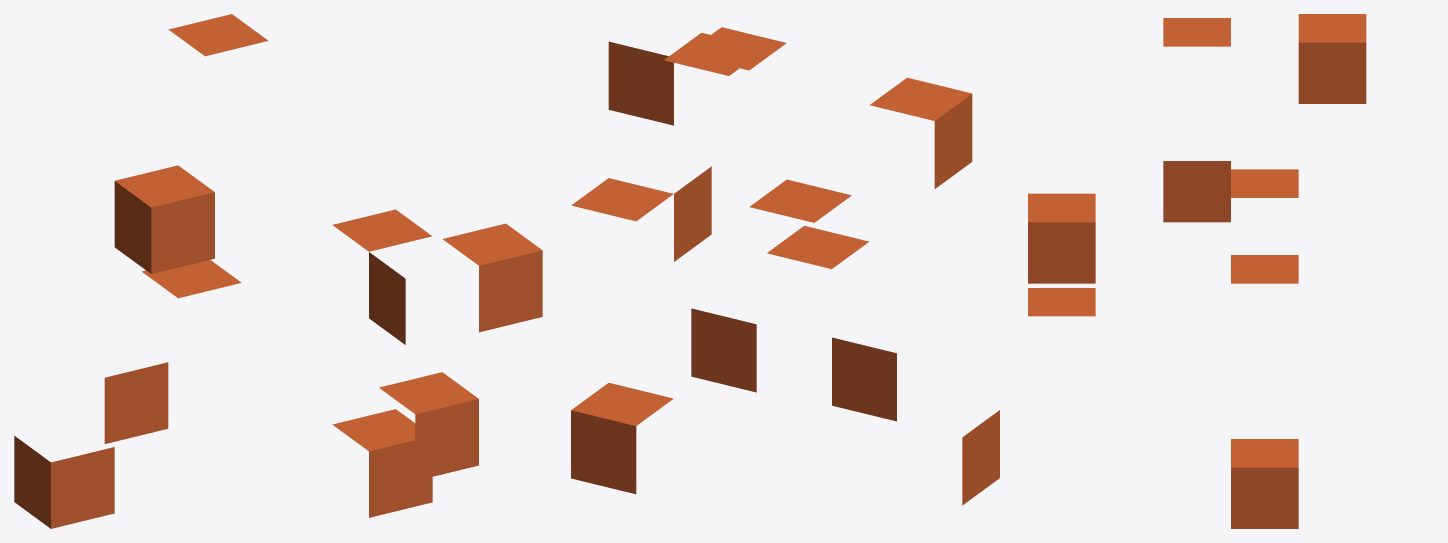
The model's file is tree-maple-0p9-gold-d9662f.gltf.
The picture shows the model from 3 angles, left to right: view 1: azimuth 30°, elevation 25°; view 2: azimuth 150°, elevation 25°; view 3: azimuth 270°, elevation 25°; orthographic projection. The views are drawn at different scales.
Parts seen in each view (by area): view 1: tree-maple-0p9-gold-d9662f; view 2: tree-maple-0p9-gold-d9662f; view 3: tree-maple-0p9-gold-d9662f.
Part boxes in pixels (left/top/right/bottom): tree-maple-0p9-gold-d9662f: left=14, top=14, right=542, bottom=528; tree-maple-0p9-gold-d9662f: left=571, top=27, right=999, bottom=505; tree-maple-0p9-gold-d9662f: left=1028, top=14, right=1366, bottom=528.
Size of the model in its own units: 6 by 7 by 6.
